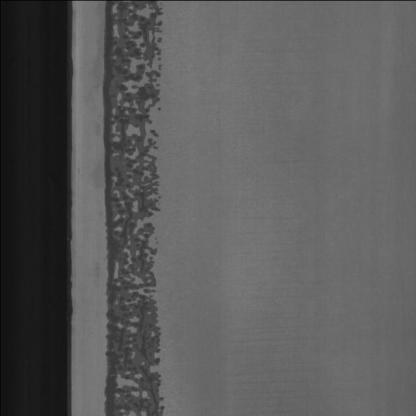oil_spot: (95, 6, 180, 416)
